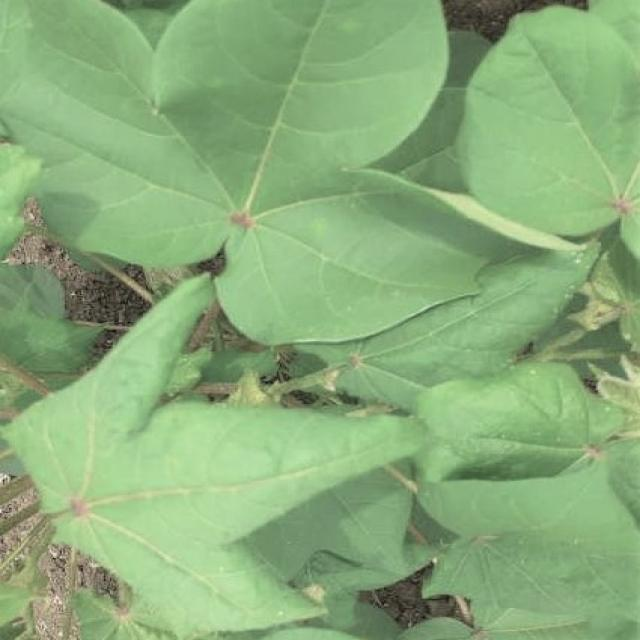Healthy Leaf: (50, 33, 640, 640)
